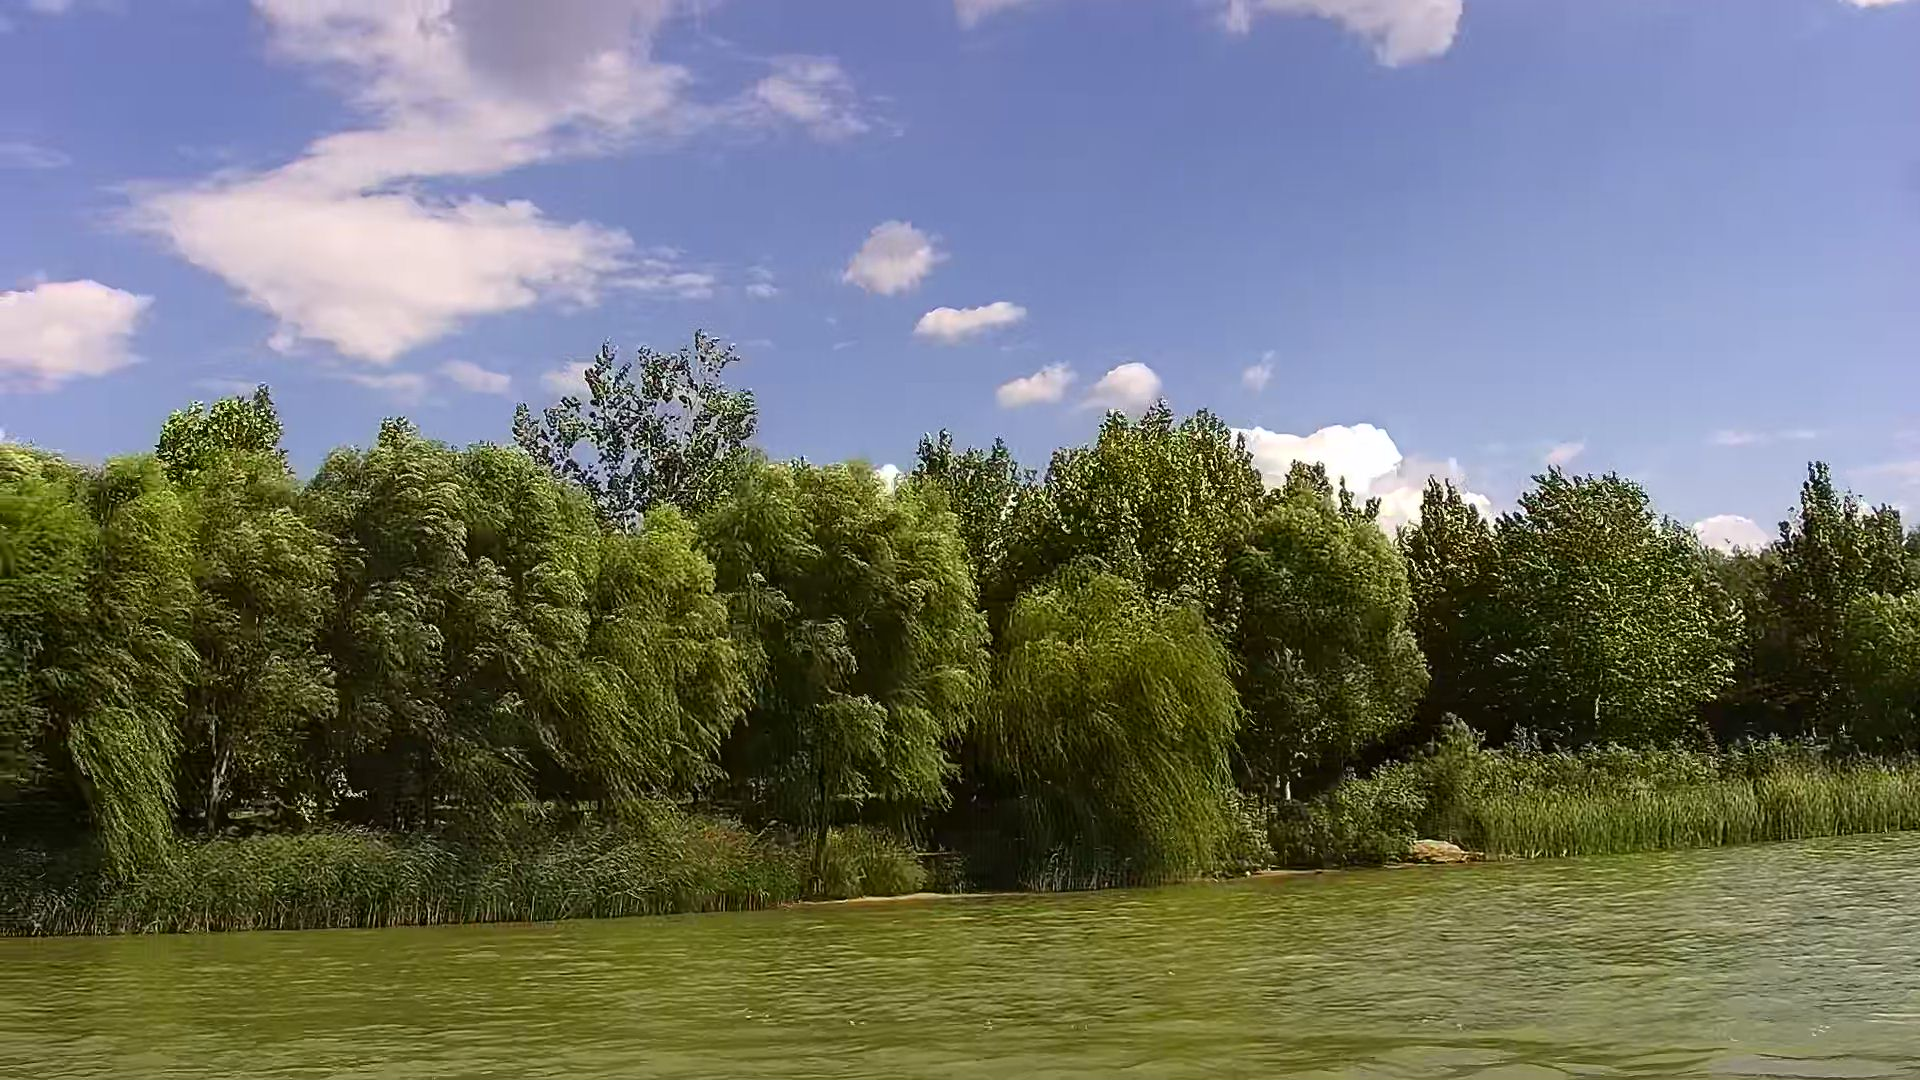rock: (1404, 835, 1468, 869)
